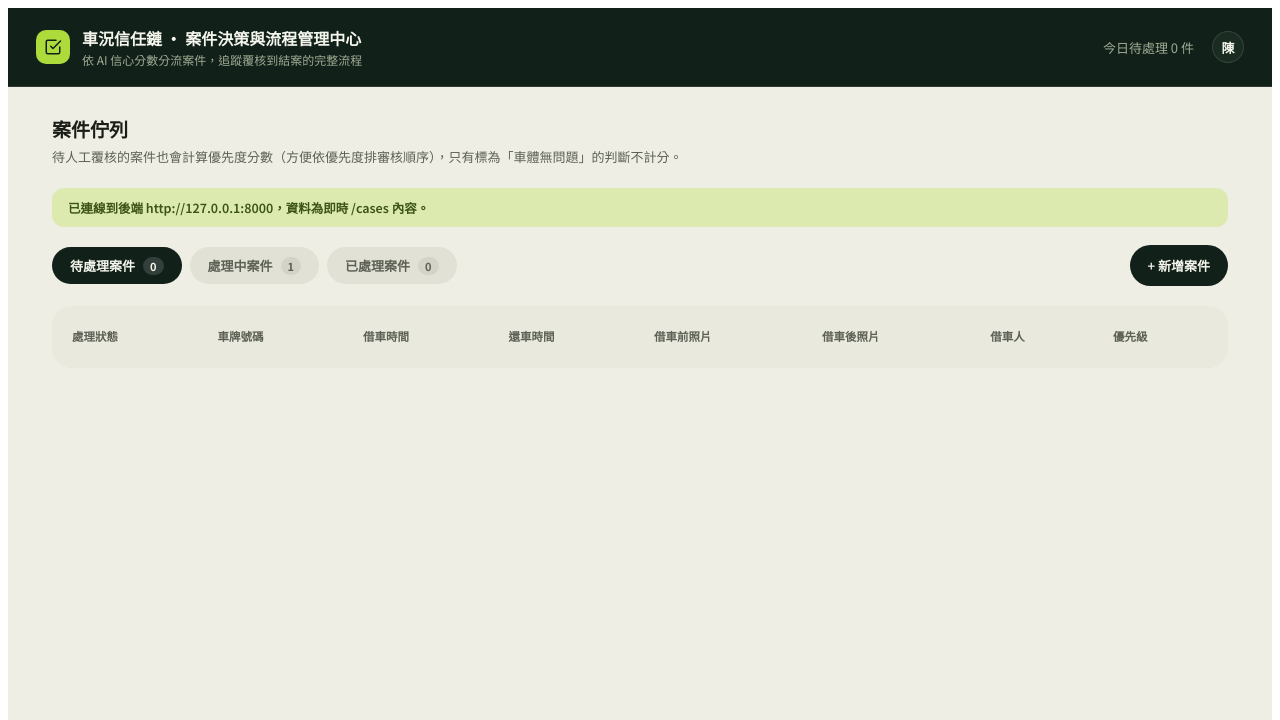
Test: production backstage console › shows the corrected category and severity in the processing list
Expected: the text "已連線到後端 http://127.0.0.1:8000，資料為即時 /cases 內容。" is shown, left=52, top=188, right=1228, bottom=227
Click the button "處理中案件 1" at (254, 266), box left=190, top=247, right=319, bottom=284
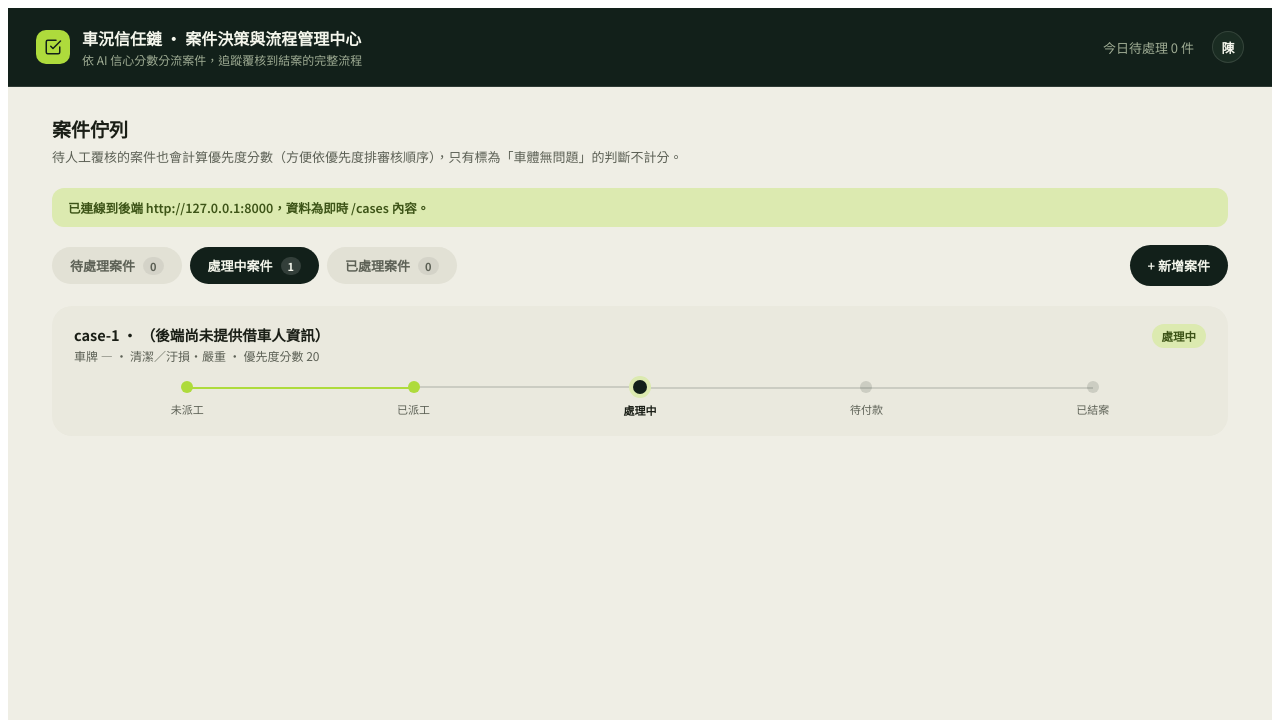
Now the text "車牌 — · 清潔／汙損・嚴重 · 優先度分數 20" is shown, box left=74, top=347, right=329, bottom=364
